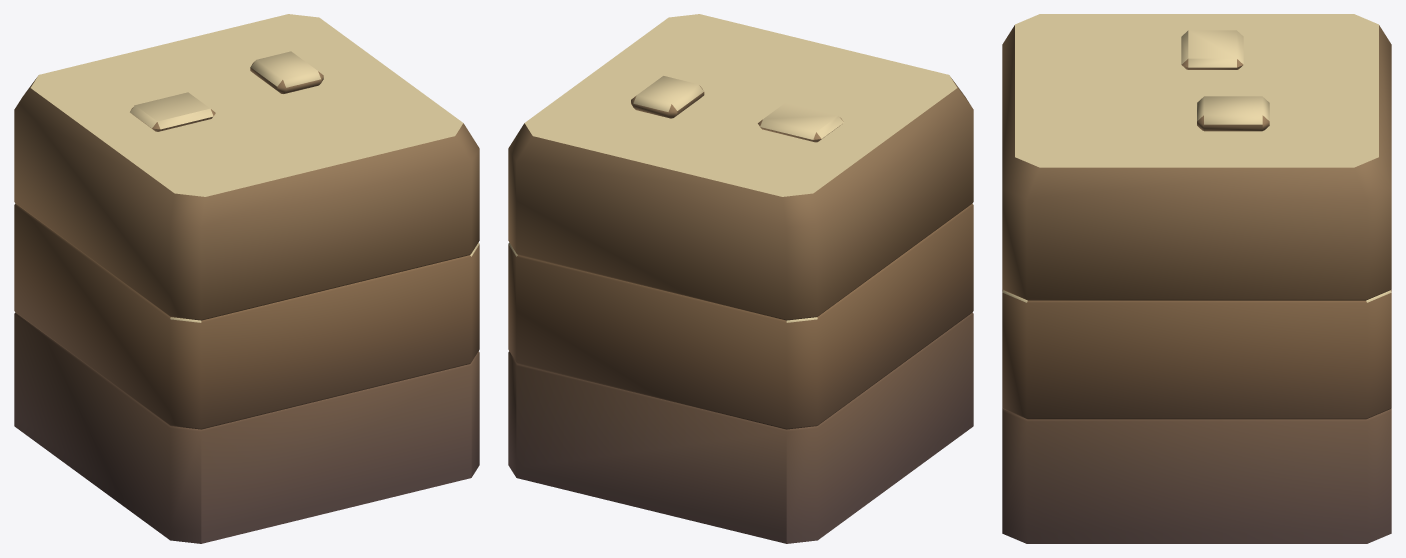
File: canyon_corner.glb
The picture shows the model from 3 angles, left to right: view 1: azimuth 30°, elevation 25°; view 2: azimuth 150°, elevation 25°; view 3: azimuth 270°, elevation 25°; orthographic projection. The views are drawn at different scales.
Parts seen in each view (by area): view 1: canyon_corner; view 2: canyon_corner; view 3: canyon_corner.
Part boxes in pixels (box(x1,y1,x2,y2)): canyon_corner: box(14, 14, 479, 543); canyon_corner: box(508, 14, 973, 543); canyon_corner: box(1002, 14, 1391, 543).
Bounding box in the file's own units: 3 × 3.28 × 3.
Materials: 1 (1 with a texture image).
